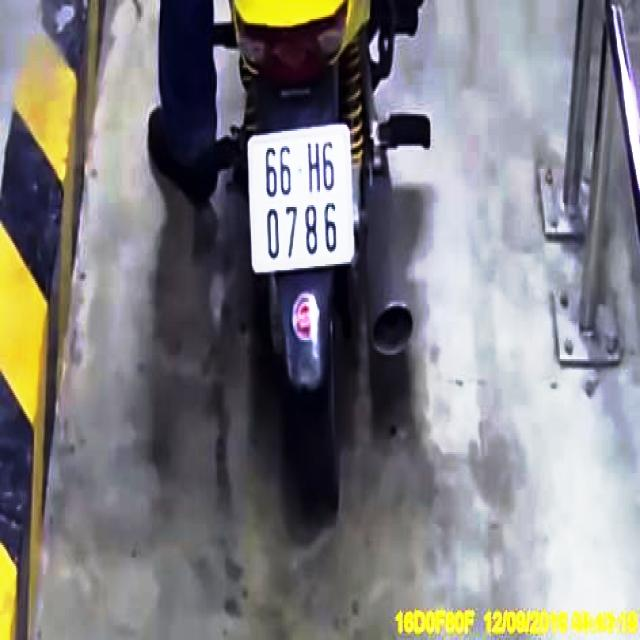license_plate: (251, 132, 356, 271)
